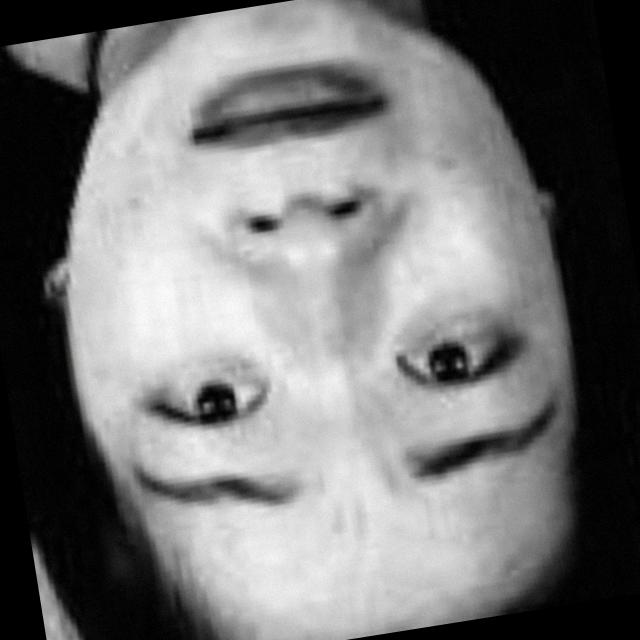fear: (42, 0, 584, 603)
